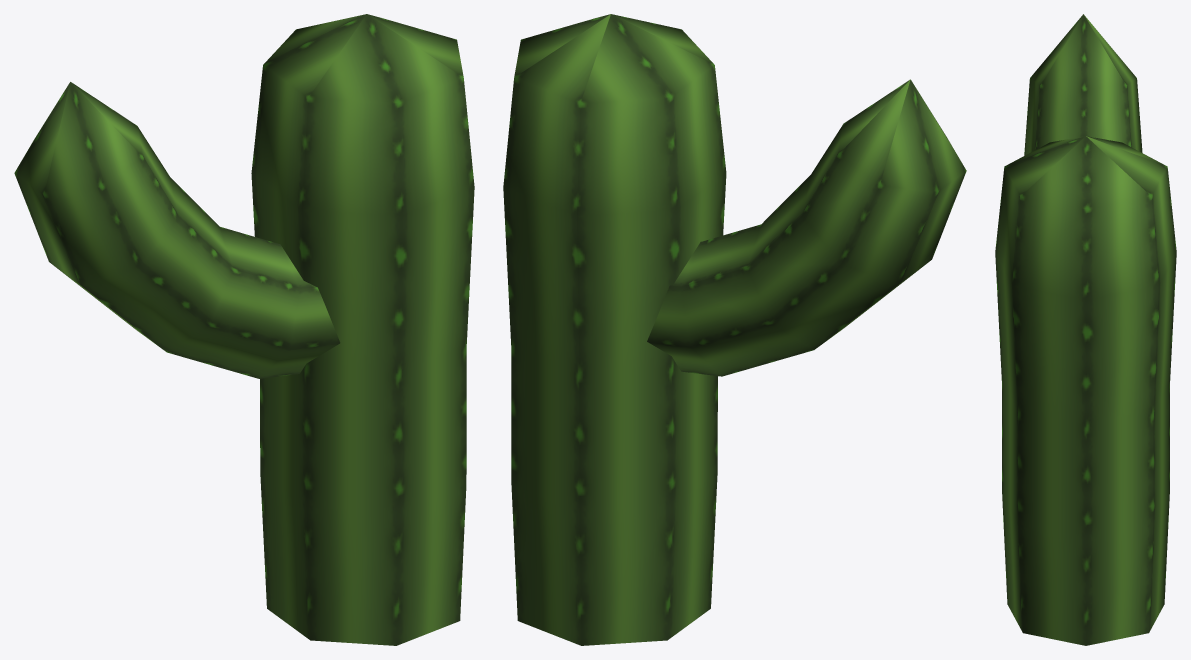
Rendered from Ctn_cactus_01_v04.FBX.
3 renders of one model, left to right at view 1: azimuth 30°, elevation 25°; view 2: azimuth 150°, elevation 25°; view 3: azimuth 270°, elevation 25°, orthographic. The views are drawn at different scales.
Visible parts, largest first — view 1: Ctn_cactus_01_v04; view 2: Ctn_cactus_01_v04; view 3: Ctn_cactus_01_v04.
Part boxes in pixels (box(x1,y1,x2,y2)): Ctn_cactus_01_v04: box(14, 14, 474, 645); Ctn_cactus_01_v04: box(503, 14, 966, 645); Ctn_cactus_01_v04: box(995, 14, 1176, 645).
Size of the model in its own units: 46.64 by 60.62 by 20.74.
